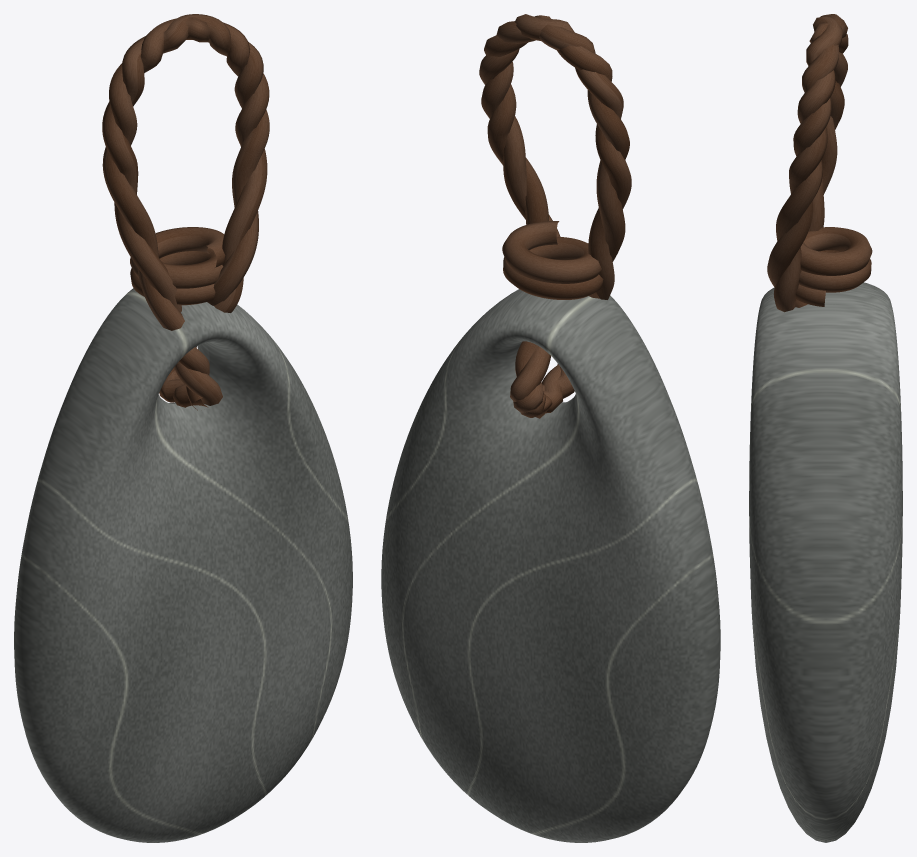
The model's file is stone_charm.glb.
3 views of the same model, side by side, from view 1: azimuth 30°, elevation 25°; view 2: azimuth 150°, elevation 25°; view 3: azimuth 270°, elevation 25° (orthographic).
Visible parts, largest first — view 1: Grey river stone with pale quartz veins, Brown twisted leather thong; view 2: Grey river stone with pale quartz veins, Brown twisted leather thong; view 3: Grey river stone with pale quartz veins, Brown twisted leather thong.
Part boxes in pixels (x1,y1,x2,y2): Grey river stone with pale quartz veins: (14, 288, 352, 842); Brown twisted leather thong: (102, 14, 269, 410); Grey river stone with pale quartz veins: (381, 289, 720, 842); Brown twisted leather thong: (479, 14, 631, 418); Grey river stone with pale quartz veins: (749, 282, 902, 842); Brown twisted leather thong: (767, 14, 872, 312).
Bounding box in the file's own units: 0.0197 × 0.0476 × 0.0082.
Materials: 2 (2 with a texture image).
